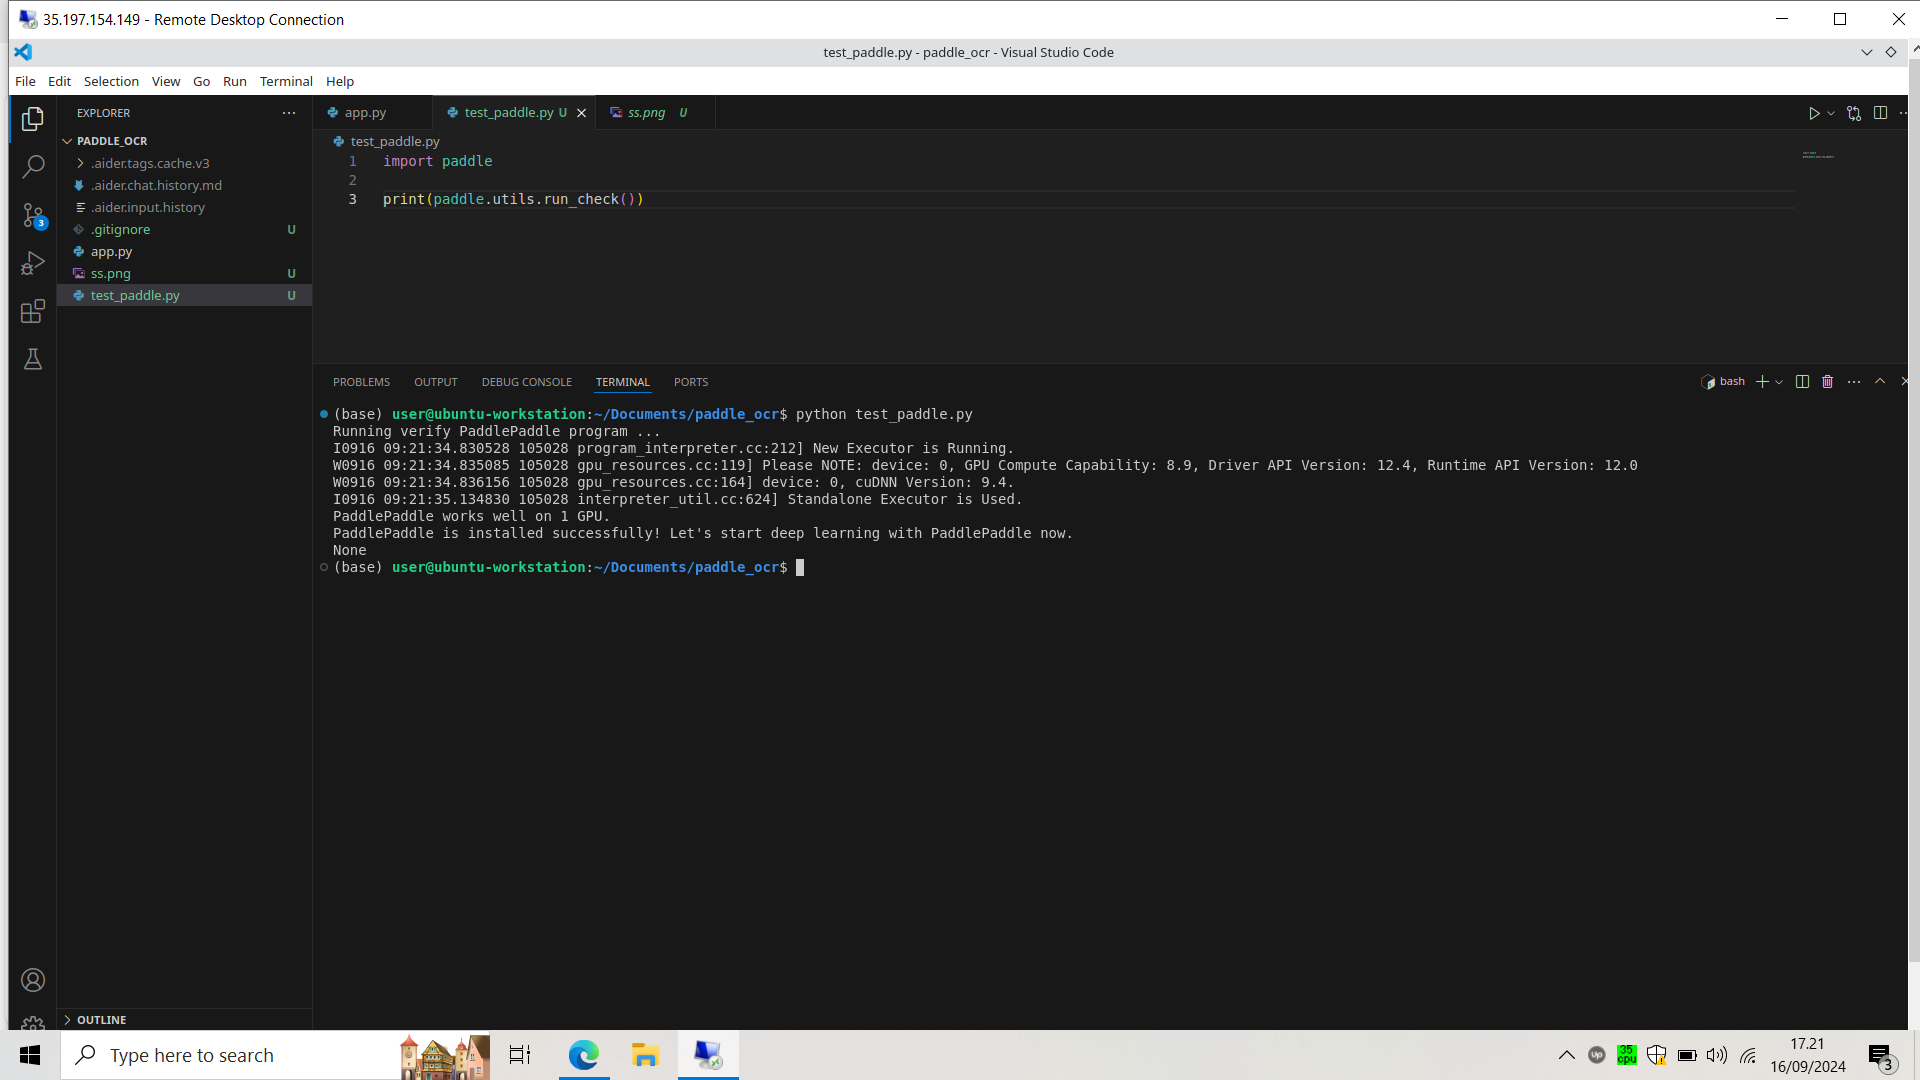branch: (15, 193, 53, 241)
file: (13, 98, 55, 138)
flask: (13, 342, 51, 377)
search: (13, 145, 51, 187)
user: (15, 959, 53, 1000)
